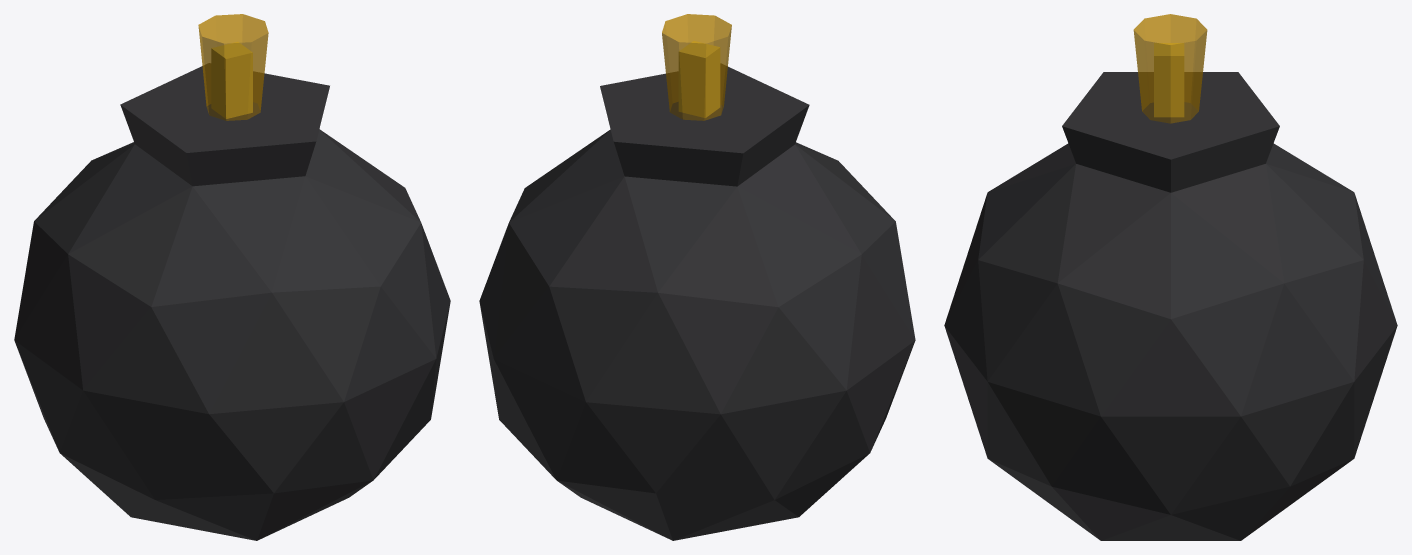
File: bombomb.fbx
3 views of the same model, side by side, from view 1: azimuth 30°, elevation 25°; view 2: azimuth 150°, elevation 25°; view 3: azimuth 270°, elevation 25° (orthographic).
Visible parts, largest first — view 1: Icosphere, Cylinder, Cube; view 2: Icosphere, Cylinder, Cube; view 3: Icosphere, Cylinder, Cube.
Part boxes in pixels (box(x1,y1,x2,y2)): Icosphere: box(14, 63, 450, 540); Cylinder: box(198, 14, 268, 120); Cube: box(211, 42, 252, 118); Icosphere: box(479, 64, 915, 540); Cylinder: box(662, 14, 731, 120); Cube: box(679, 41, 719, 117); Icosphere: box(944, 72, 1397, 540); Cylinder: box(1133, 14, 1207, 123); Cube: box(1154, 43, 1183, 116).
Bounding box in the file's own units: 190 × 244 × 200.
